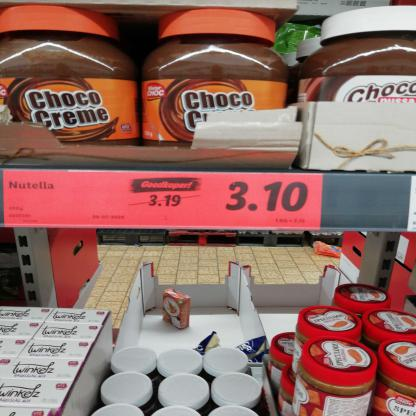prtg: (4, 171, 324, 232)
